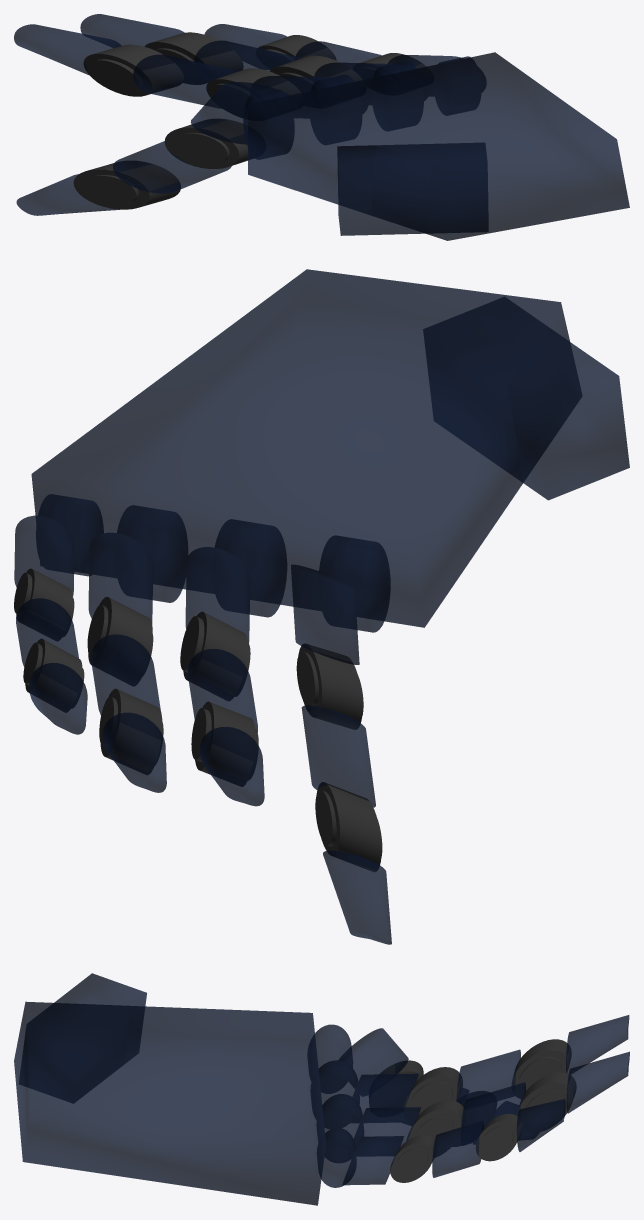
File: left hand.fbx
The picture shows the model from 3 angles, top to bottom: view 1: azimuth 30°, elevation 25°; view 2: azimuth 150°, elevation 25°; view 3: azimuth 270°, elevation 25°; orthographic projection. The views are drawn at different scales.
Parts seen in each view (by area): view 1: Left_Hand, Left_Middle Body 2, Left_Index Body 2, Left_Index Body 1, Left_Middle 2, Left_Index Joint 2, Left_Middle Joint 2, Left_Ring Tip, Left_Ring Body 2, Left_Ring Joint 2, Left_Index Tip, Left_Index Joint 1 (+16 smaller); view 2: Left_Hand, Left_Index Body 1, Left_Index Body 2, Left_Middle Body 1, Left_Ring Body 1, Left_Index Tip, Left_Middle 2, Left_Ring Tip, Left_Ring Body 2, Left_Middle Body 2, Left_Ring Joint 1, Left_Pinky Body 1 (+13 smaller); view 3: Left_Hand, Left_Index Body 1, Left_Middle Body 2, Left_Middle Body 1, Left_Ring Body 1, Left_Ring Tip, Left_Middle 2, Left_Pinky Body 1, Left_Ring Body 2, Left_Pinky Body 2, Left_Pinky 2, Left_Ring Joint 2 (+14 smaller).
Part boxes in pixels (left/top/right/bottom): Left_Hand: left=243, top=52, right=629, bottom=240; Left_Middle Body 2: left=133, top=54, right=237, bottom=107; Left_Index Body 2: left=113, top=141, right=231, bottom=193; Left_Index Body 1: left=190, top=82, right=297, bottom=144; Left_Middle 2: left=14, top=24, right=121, bottom=74; Left_Index Joint 2: left=73, top=161, right=180, bottom=209; Left_Middle Joint 2: left=83, top=44, right=183, bottom=96; Left_Ring Tip: left=80, top=14, right=184, bottom=47; Left_Ring Body 2: left=194, top=40, right=300, bottom=77; Left_Ring Joint 2: left=145, top=32, right=243, bottom=84; Left_Index Tip: left=16, top=174, right=119, bottom=215; Left_Index Joint 1: left=164, top=119, right=253, bottom=168; Left_Hand: left=31, top=269, right=629, bottom=632; Left_Index Body 1: left=291, top=564, right=359, bottom=664; Left_Index Body 2: left=301, top=705, right=375, bottom=807; Left_Middle Body 1: left=185, top=547, right=250, bottom=643; Left_Ring Body 1: left=88, top=532, right=153, bottom=624; Left_Index Tip: left=323, top=850, right=391, bottom=944; Left_Middle 2: left=199, top=726, right=264, bottom=806; Left_Ring Tip: left=102, top=712, right=166, bottom=792; Left_Ring Body 2: left=91, top=634, right=160, bottom=715; Left_Middle Body 2: left=187, top=649, right=257, bottom=732; Left_Ring Joint 1: left=88, top=597, right=152, bottom=685; Left_Pinky Body 1: left=14, top=515, right=74, bottom=596; Left_Hand: left=14, top=973, right=363, bottom=1205; Left_Index Body 1: left=336, top=1028, right=408, bottom=1095; Left_Middle Body 2: left=456, top=1049, right=520, bottom=1109; Left_Middle Body 1: left=343, top=1073, right=418, bottom=1122; Left_Ring Body 1: left=348, top=1107, right=421, bottom=1156; Left_Ring Tip: left=566, top=1051, right=629, bottom=1113; Left_Middle 2: left=566, top=1015, right=629, bottom=1074; Left_Pinky Body 1: left=342, top=1136, right=403, bottom=1185; Left_Ring Body 2: left=461, top=1082, right=526, bottom=1145; Left_Pinky Body 2: left=432, top=1120, right=483, bottom=1177; Left_Pinky 2: left=516, top=1099, right=565, bottom=1151; Left_Ring Joint 2: left=516, top=1072, right=576, bottom=1132.
Size of the model in its own units: 229 by 126 by 356.
